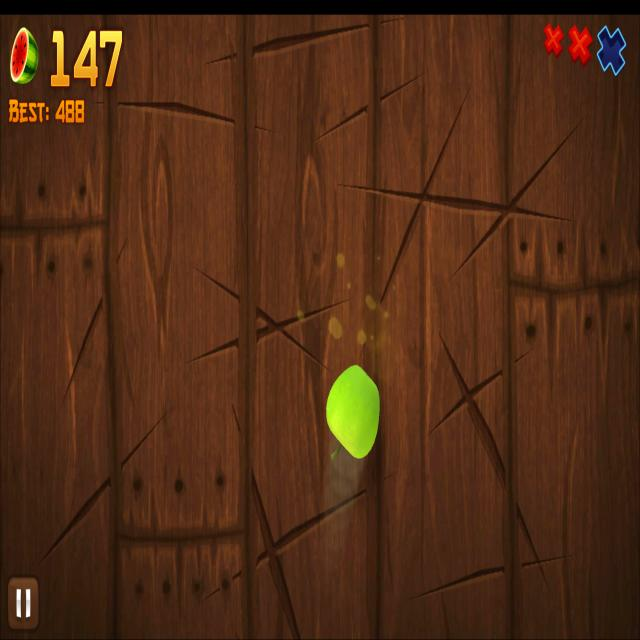fruit: (328, 366, 380, 462)
